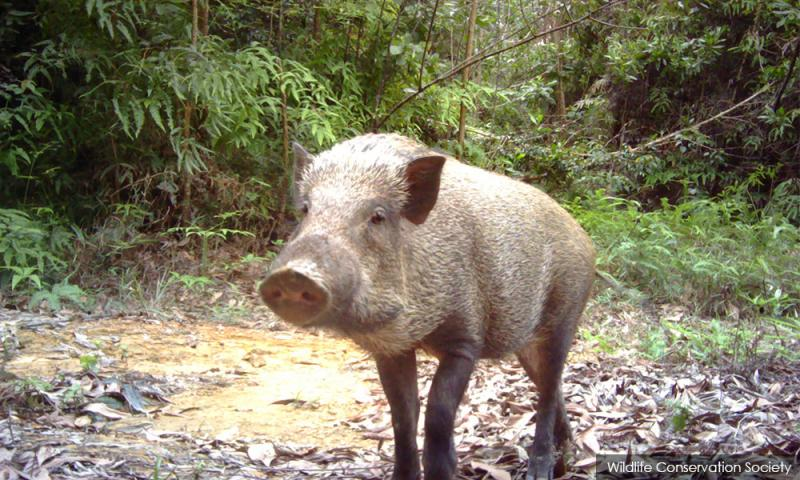boar: (254, 127, 588, 478)
